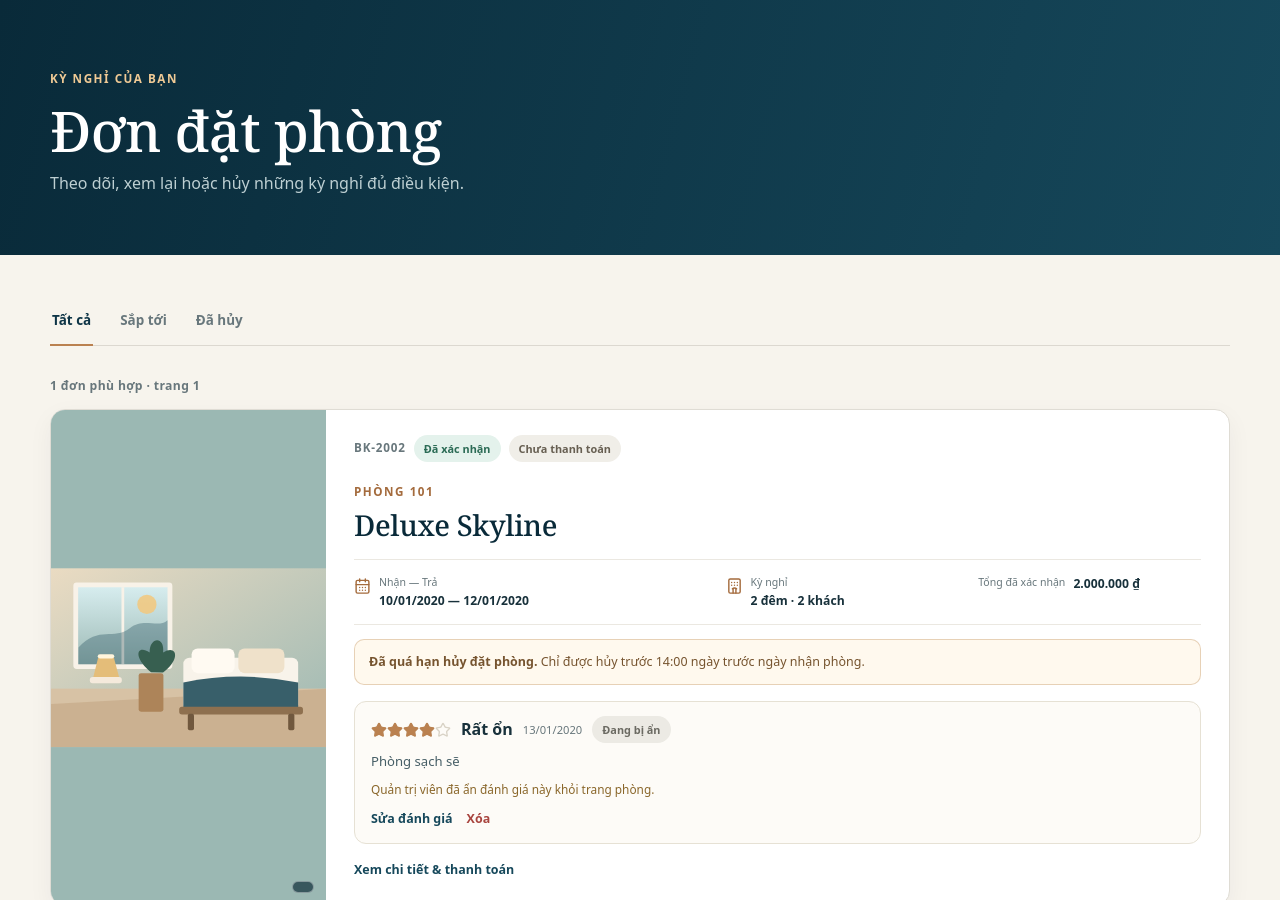
Test: MyBookingsPage reviews › shows an existing (hidden) review, edits it and deletes it after confirmation
Expected: the text "Rất ổn" is shown, [461,717,513,743]
Expected: the text "Đang bị ẩn" is shown, [592,716,670,744]
Click the button "Sửa đánh giá" at x=412, y=819, box [371,809,453,829]
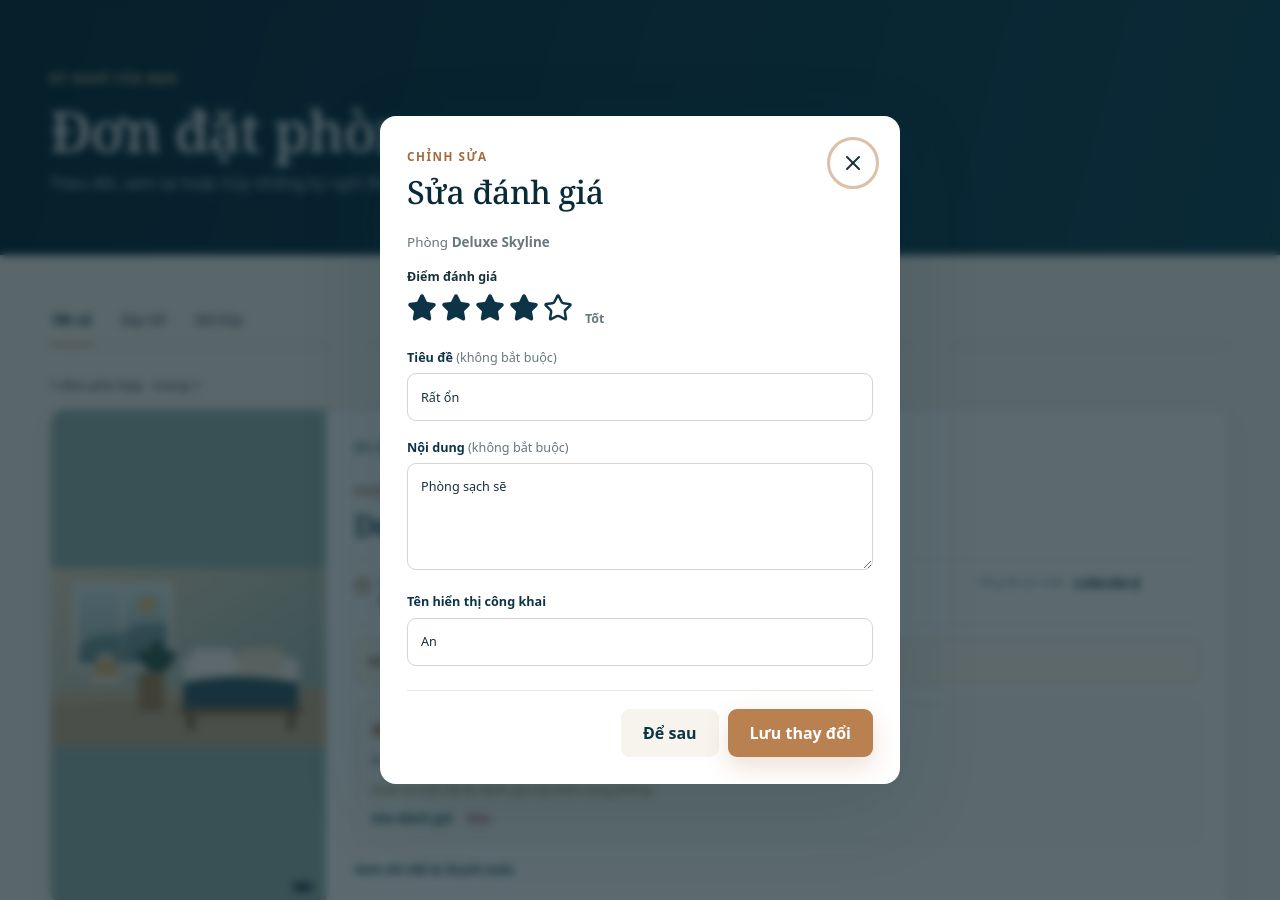
Expected: the field labelled "Tên hiển thị công khai" holds "An", [407,618,873,666]
Click the radio button named "5 sao" at x=558, y=308, box [543,293,573,323]
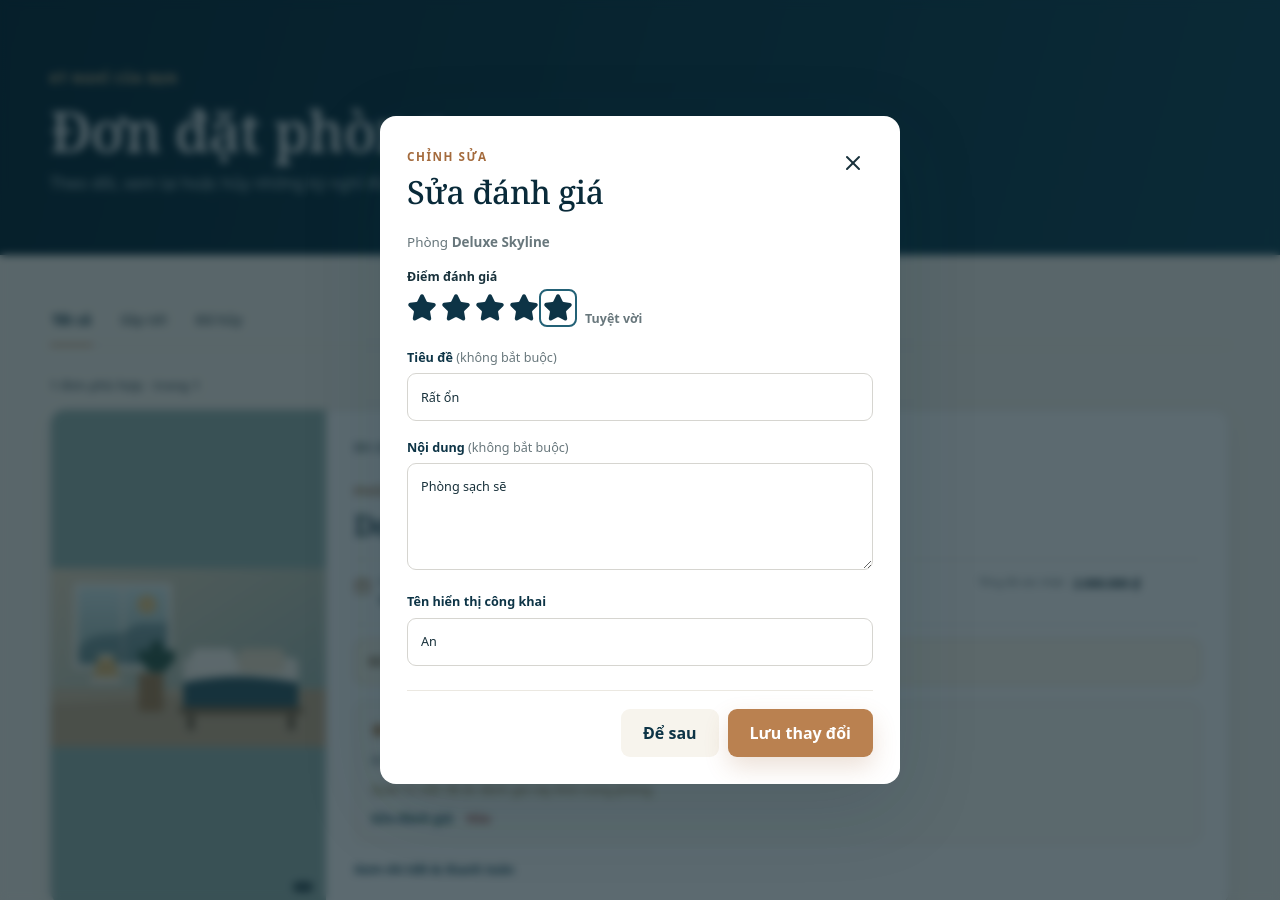
Click the button "Lưu thay đổi" at x=800, y=733, box [728,709,873,757]
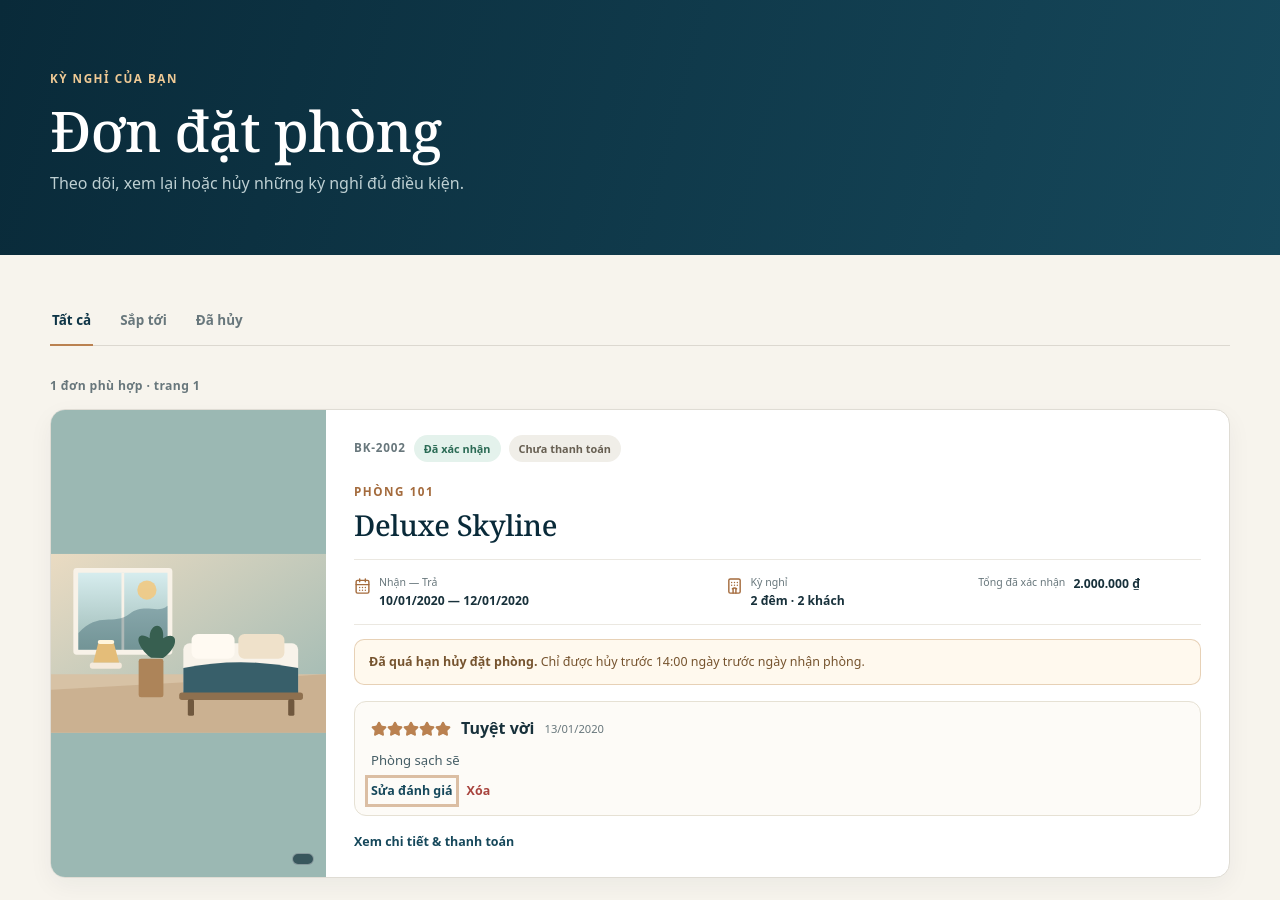
Expected: the text "Tuyệt vời" is shown, [461,716,534,742]
Click the button "Xóa" at x=478, y=791, box [467,781,490,801]
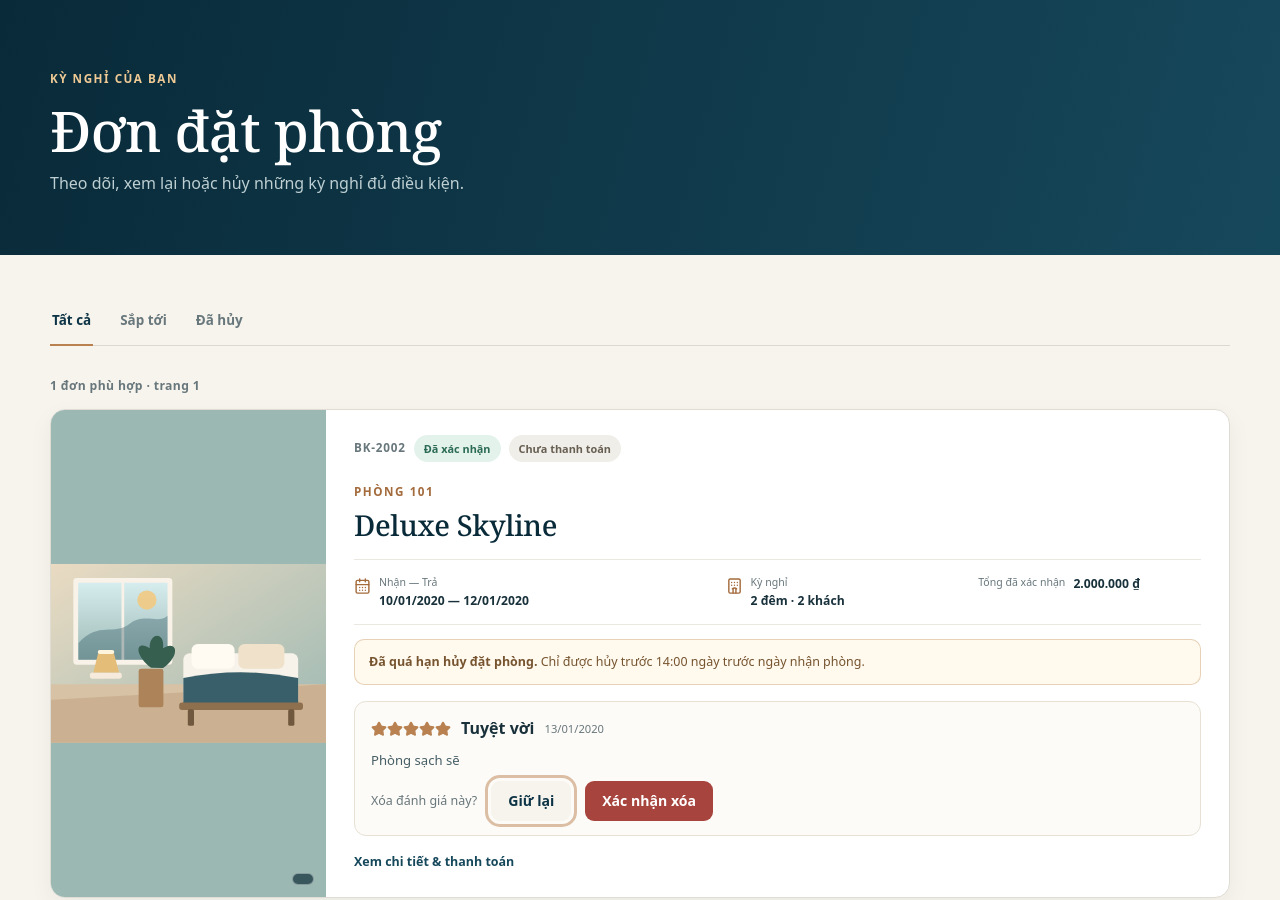
Click the button "Xác nhận xóa" at x=649, y=801, box [585,781,713,821]
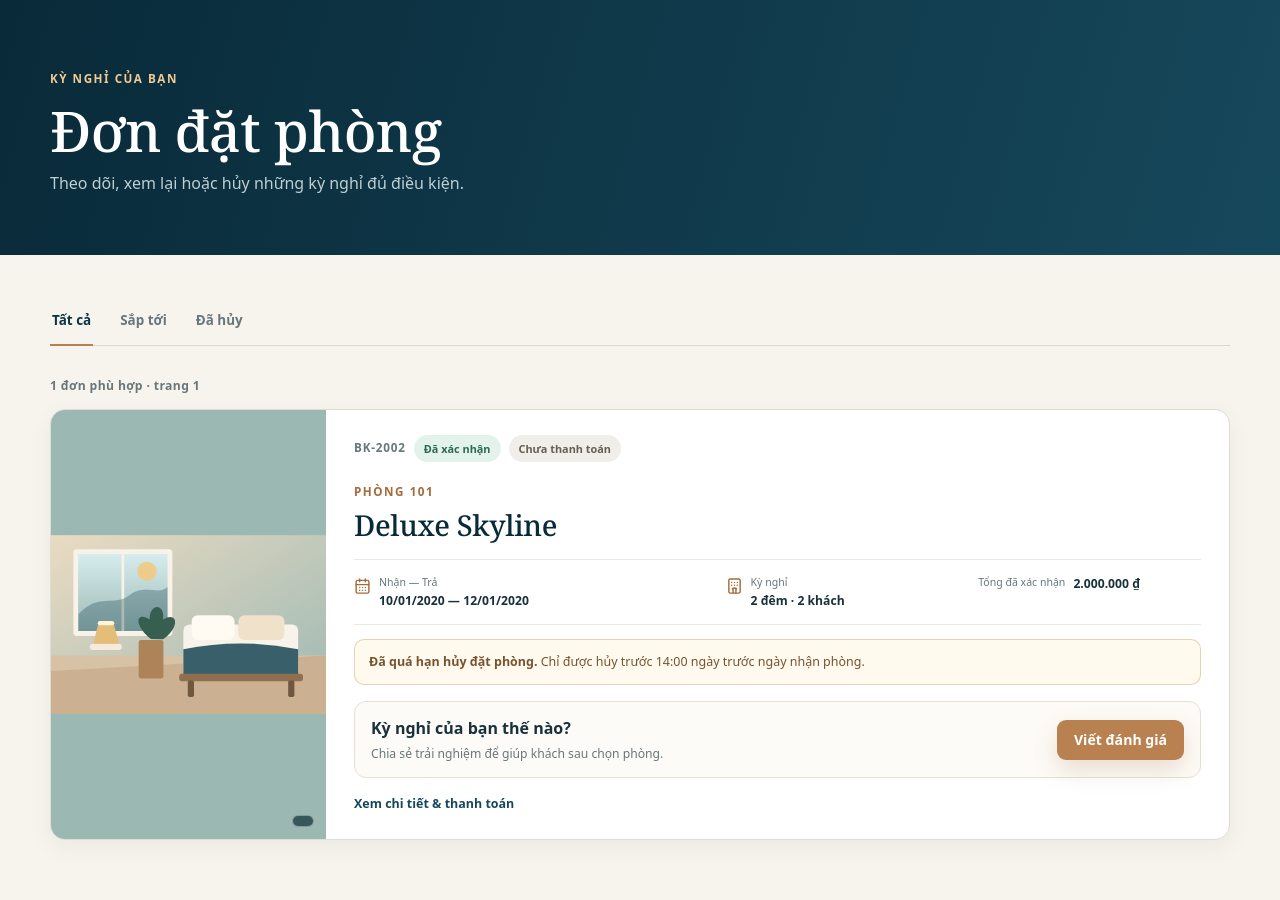
Expected: the button "Viết đánh giá" is shown, [1057,720,1184,760]
